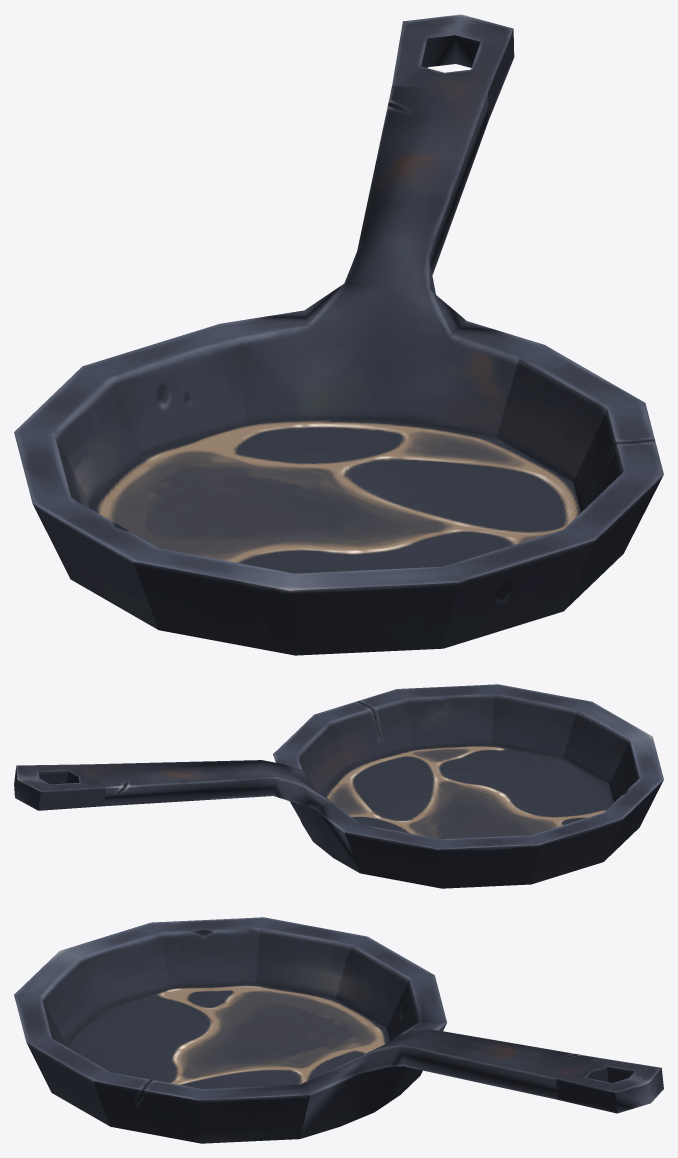
Rendered from 3a0fea4e-93b9-4854-b371-7478aa0be4b9.glb.
The picture shows the model from 3 angles, top to bottom: view 1: azimuth 30°, elevation 25°; view 2: azimuth 150°, elevation 25°; view 3: azimuth 270°, elevation 25°; orthographic projection. The views are drawn at different scales.
Parts seen in each view (by area): view 1: CastIron; view 2: CastIron; view 3: CastIron.
Part boxes in pixels (<box>): CastIron: <box>14,14,663,655</box>; CastIron: <box>14,684,663,888</box>; CastIron: <box>14,917,663,1143</box>.
Bounding box in the file's own units: 0.6879 × 0.1627 × 0.778.
1 material, 1 textured.
